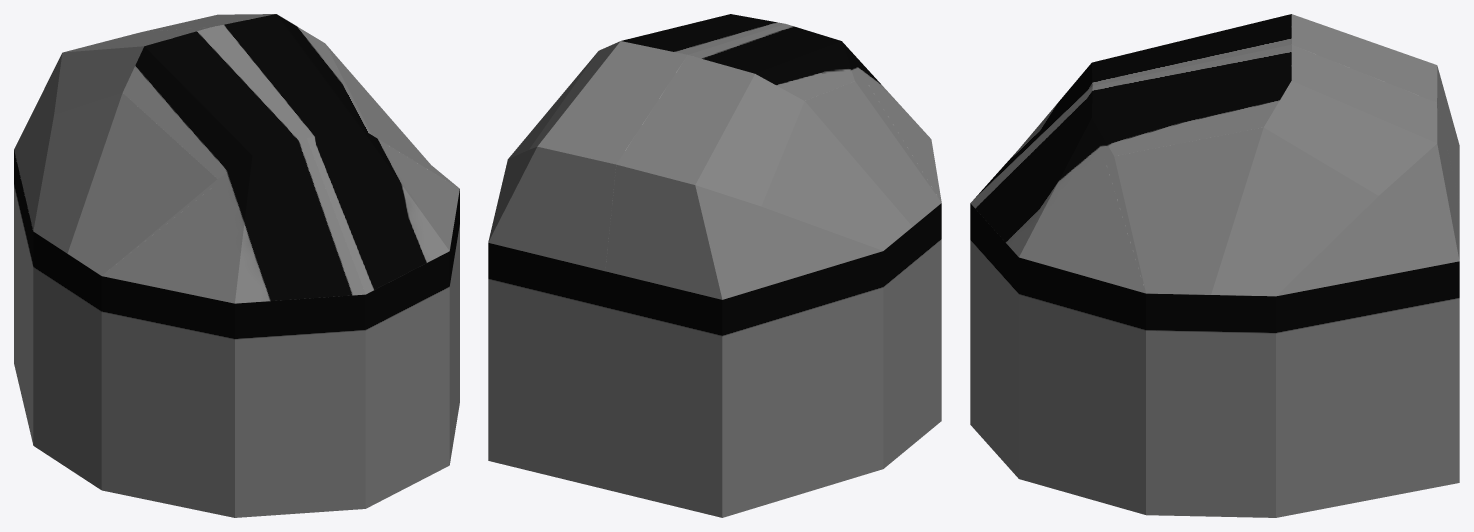
Rendered from MG_turret_MOUNT.fbx.
The picture shows the model from 3 angles, left to right: view 1: azimuth 30°, elevation 25°; view 2: azimuth 150°, elevation 25°; view 3: azimuth 270°, elevation 25°; orthographic projection. The views are drawn at different scales.
Parts seen in each view (by area): view 1: Mount; view 2: Mount; view 3: Mount.
Boxes of the visible parts, <box> form: Mount: <box>14,14,459,517</box>; Mount: <box>488,14,941,517</box>; Mount: <box>970,14,1459,517</box>.
Size of the model in its own units: 34.24 by 32.58 by 37.99.
Materials: 1 (1 with a texture image).
